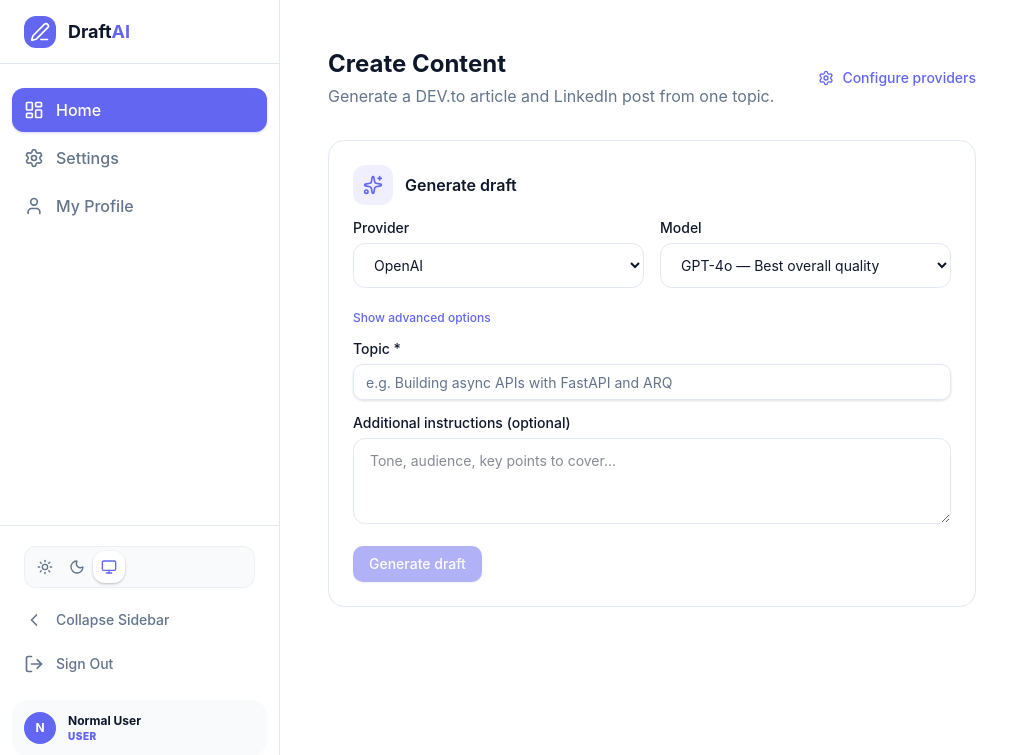
Test: Dashboard Component › generates draft and shows preview
Check: the dropdown labelled "Provider" is shown, box [353,243,644,288]
Type "Building with FastAPI" into the field labelled "Topic *" at (652, 382), box [353,364,951,400]
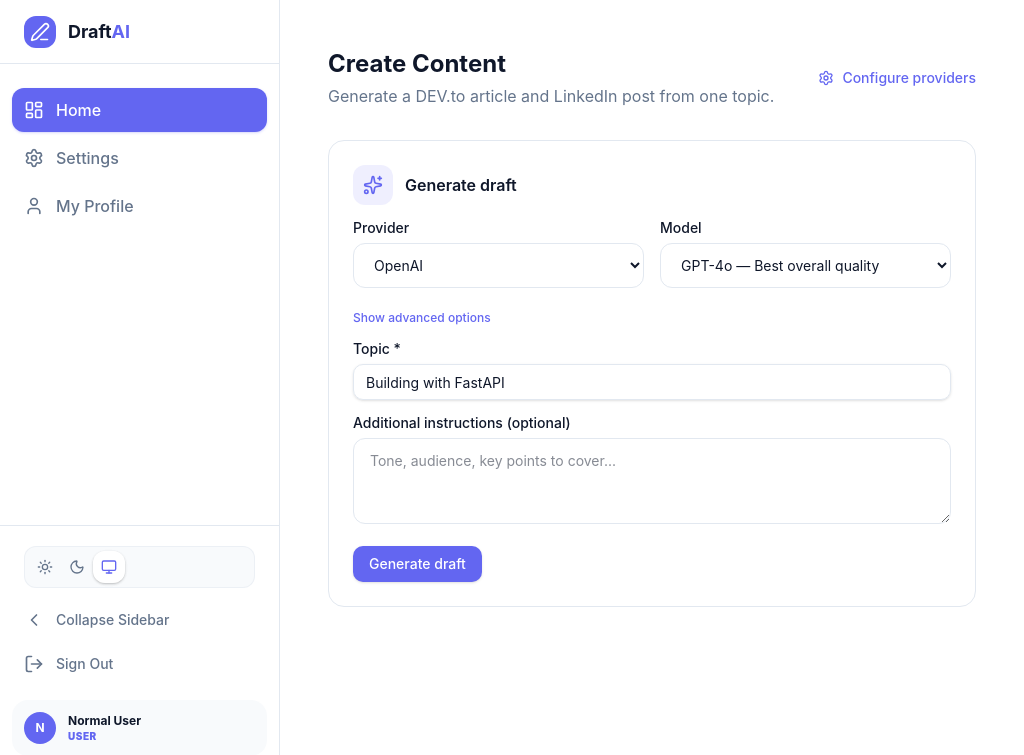
Click the button "Generate draft" at (417, 564), box [353,546,482,582]
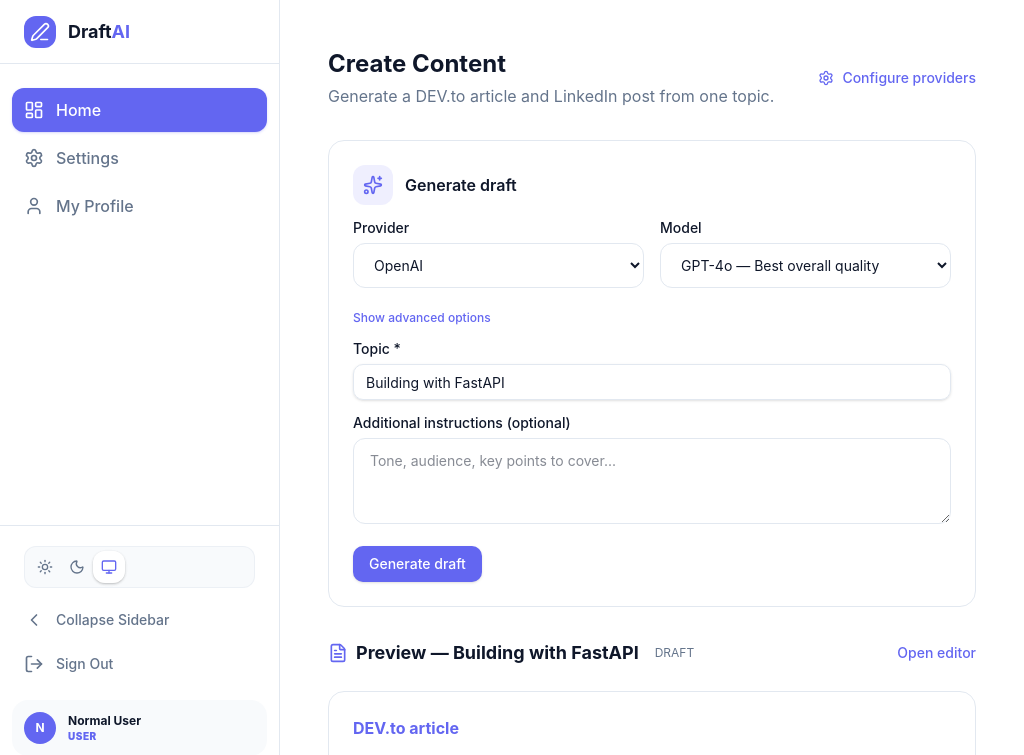
Check: the heading "Preview — Building with FastAPI draft" is shown, box [328,639,694,667]
Check: the heading "DEV.to article" is shown, box [353,718,459,738]
